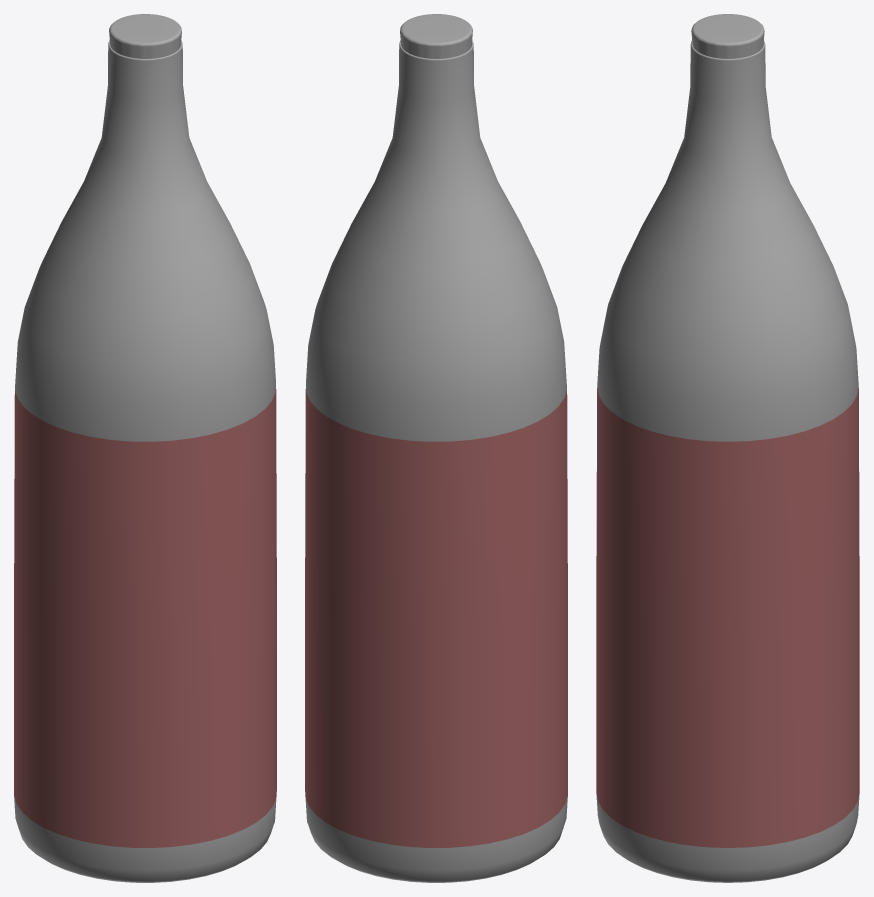
The model's file is Bottle.fbx.
3 views of the same model, side by side, from view 1: azimuth 30°, elevation 25°; view 2: azimuth 150°, elevation 25°; view 3: azimuth 270°, elevation 25° (orthographic).
Parts seen in each view (by area): view 1: pPipe1, pCylinder1; view 2: pPipe1, pCylinder1; view 3: pPipe1, pCylinder1.
Boxes of the visible parts, box(x1,y1,x2,y2) form: pPipe1: box(14, 40, 276, 882); pCylinder1: box(109, 14, 181, 58); pPipe1: box(305, 40, 567, 882); pCylinder1: box(400, 14, 472, 58); pPipe1: box(596, 40, 859, 882); pCylinder1: box(691, 14, 764, 58).
Size of the model in its own units: 8.53 by 28.75 by 8.53.
